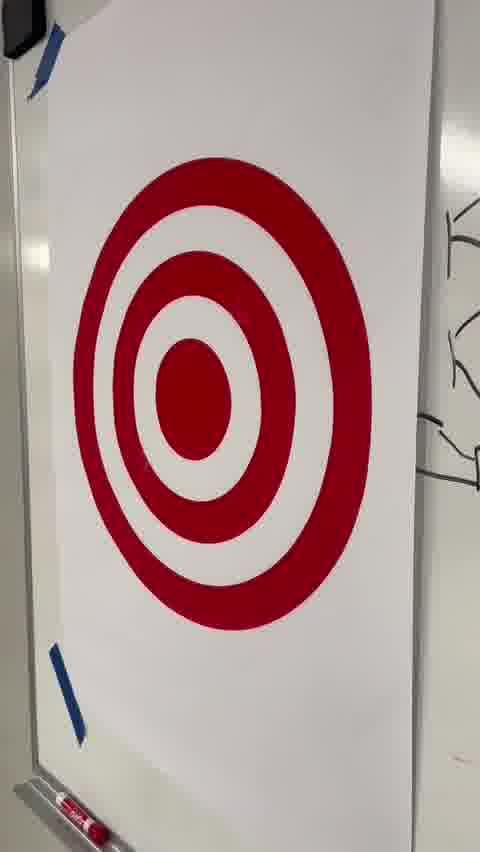target_red: (73, 157, 374, 632)
